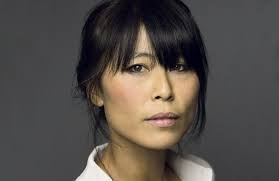asian_female: (63, 1, 216, 164)
